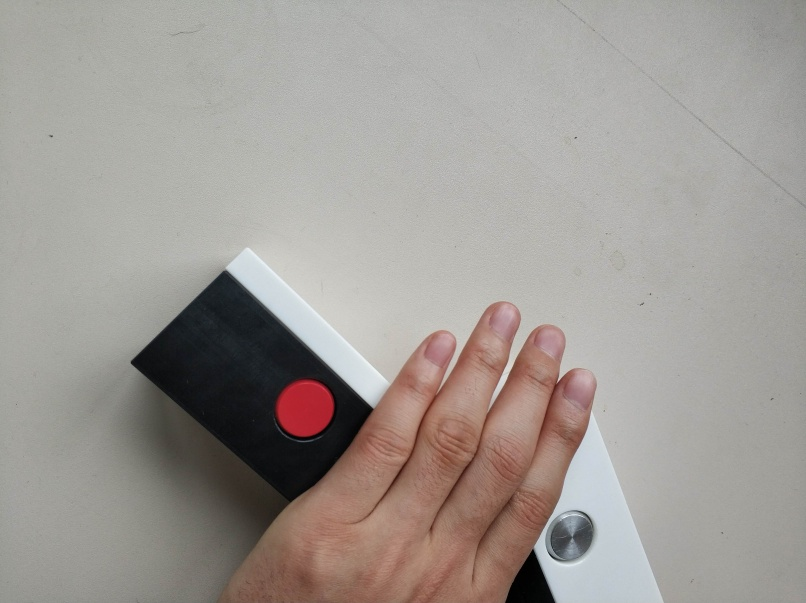black+white+silver: (502, 402, 670, 603)
white+black+red: (127, 247, 394, 502)
